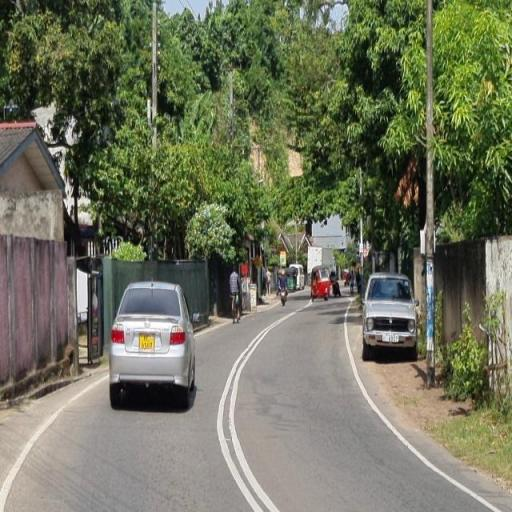double_white_line: (339, 307, 500, 512), (214, 307, 278, 512)
